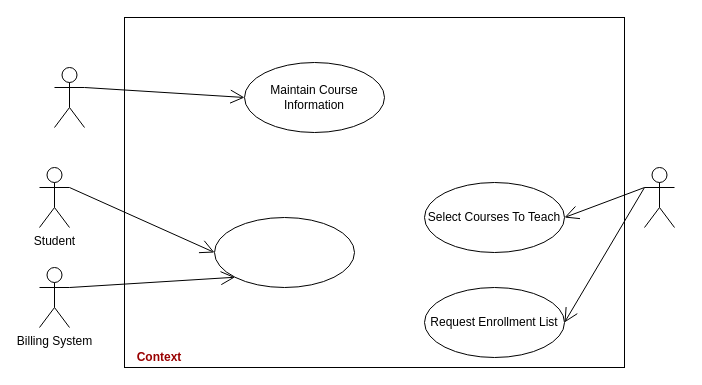
Some shapes in this 702 by 385 pixel diagram are drawn without their labels. The shapes that lost their labels are listed below. From the top down, each one's centre as x and y in pixels, then its label:
At (69,97): "Registrar".
At (659,197): "Instructor".
At (284,252): "Register For Courses".
